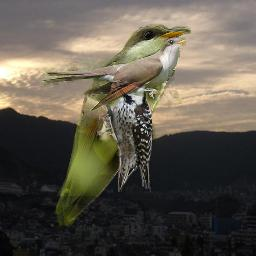Cuckoo: (53, 24, 191, 226), (42, 37, 186, 111)
Woodpecker: (96, 76, 152, 192)
